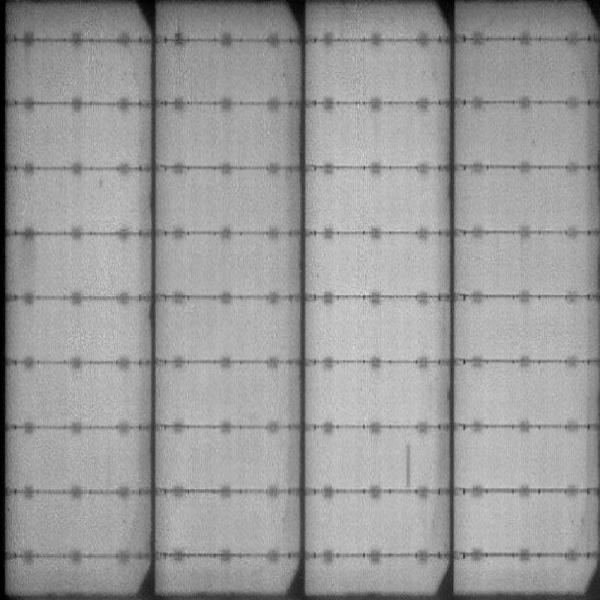scratch: (401, 438, 417, 491)
